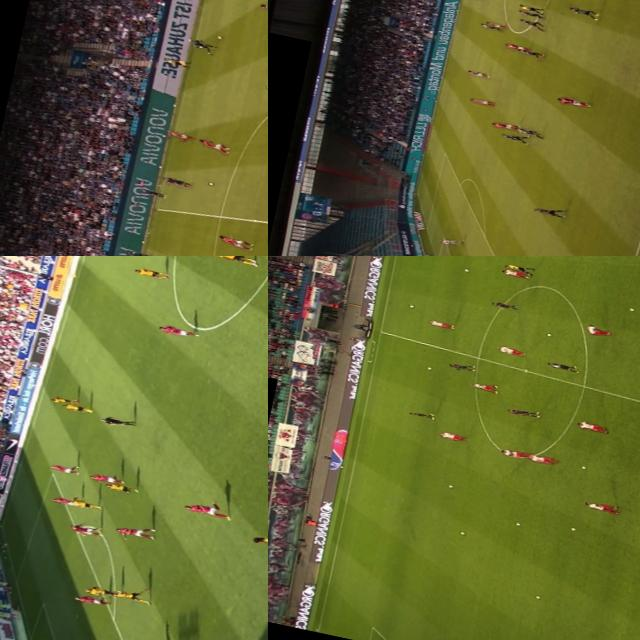ball: (566, 524, 579, 532), (457, 528, 468, 536), (626, 306, 638, 312), (544, 332, 554, 338), (460, 266, 470, 272), (514, 520, 522, 527), (206, 180, 215, 186), (447, 482, 455, 488), (408, 302, 416, 307), (425, 366, 433, 370), (535, 594, 542, 597), (216, 35, 222, 38), (265, 84, 268, 88), (582, 466, 588, 468), (266, 237, 268, 242)
player: (182, 499, 230, 519), (70, 591, 116, 610), (112, 522, 160, 539), (154, 322, 202, 339), (111, 586, 156, 603), (216, 233, 254, 251), (128, 263, 170, 279), (66, 522, 106, 538), (567, 4, 603, 21), (532, 202, 570, 218), (247, 525, 268, 553), (48, 492, 84, 508), (574, 419, 610, 435), (102, 479, 140, 494), (68, 494, 102, 510), (86, 470, 124, 484), (210, 256, 258, 267), (584, 500, 619, 515), (84, 584, 120, 598), (546, 360, 582, 374), (556, 95, 593, 108), (197, 139, 230, 153), (499, 131, 532, 145), (495, 343, 528, 357), (46, 461, 81, 474), (189, 37, 215, 54), (470, 381, 503, 394), (518, 17, 548, 31), (506, 406, 541, 418), (584, 323, 612, 338), (514, 125, 546, 138), (46, 393, 78, 406), (500, 446, 532, 459), (61, 399, 92, 412), (439, 234, 467, 248), (492, 298, 520, 312), (162, 174, 192, 187), (439, 429, 468, 442), (515, 46, 546, 58), (528, 452, 559, 464), (492, 119, 520, 132), (516, 8, 546, 20), (448, 360, 477, 372), (165, 128, 192, 140), (468, 95, 497, 106), (138, 187, 166, 198), (503, 42, 533, 52), (410, 410, 440, 420), (465, 67, 492, 78), (484, 18, 508, 30), (258, 3, 268, 25), (126, 249, 151, 256), (479, 22, 501, 29)
